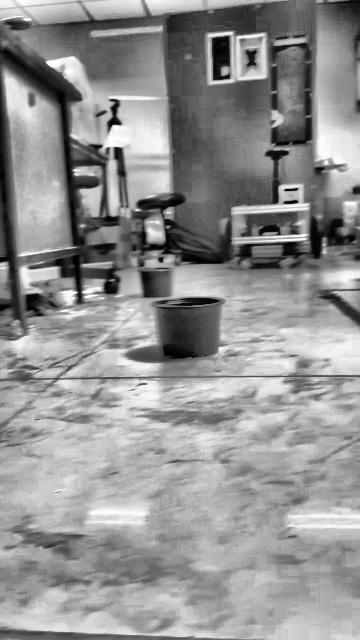pot: (149, 297, 224, 358), (139, 266, 175, 296)
